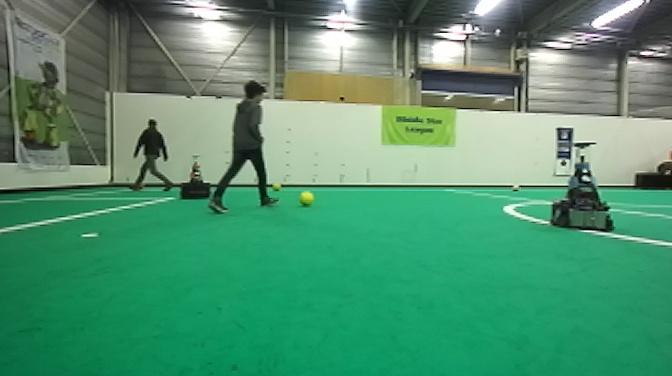ball: (297, 190, 316, 208), (270, 179, 284, 194), (510, 182, 522, 194)
human: (207, 79, 280, 217), (127, 118, 174, 191)
robot: (549, 139, 616, 232), (177, 153, 215, 201)
